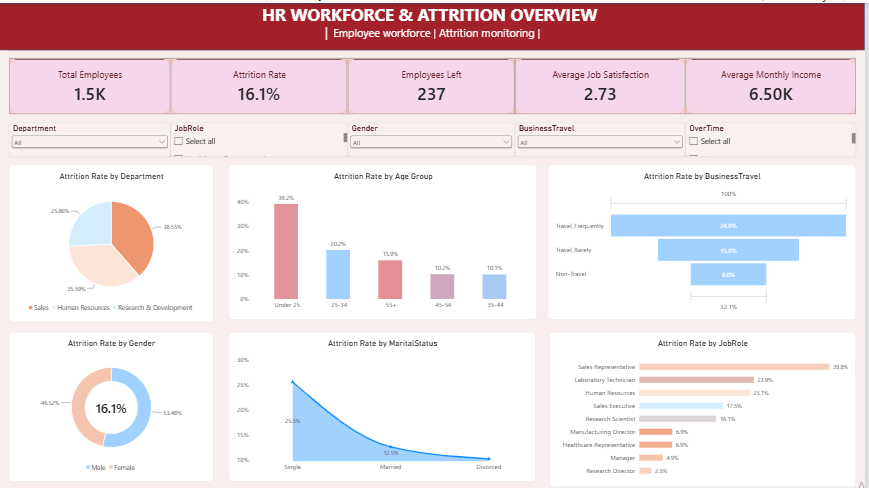

What the dashboard file says about the page in this screenshot:
{"tool":"powerbi","page":{"name":"Dashboard_1","canvas":[1920,1080],"ordinal":0},"visuals":[{"type":"shape","box":[0,0,1919.3,104.9],"z":0},{"type":"cardVisual","fields":{"Data":["Measure Table.Attrition Rate"]},"box":[380.5,104.9,392.6,141.4],"z":1000},{"type":"cardVisual","fields":{"Data":["Measure Table.Employees Left"]},"box":[773.1,104.9,370.7,141.4],"z":2000},{"type":"cardVisual","fields":{"Data":["Measure Table.Employees Retained"]},"box":[1143.8,104.9,378,141.4],"z":3000},{"type":"cardVisual","fields":{"Data":["Measure Table.Average Monthly Income"]},"box":[1521.8,104.9,378,141.4],"z":4000},{"type":"cardVisual","fields":{"Data":["Measure Table.Total Employees"]},"box":[21.9,104.9,358.5,141.4],"z":5000},{"type":"pieChart","fields":{"Category":["Employee_Data.Department"],"Y":["Measure Table.Attrition Rate"]},"box":[21.9,358.5,453.6,348.7],"z":6000},{"type":"clusteredBarChart","fields":{"Category":["Employee_Data.JobRole"],"Y":["Measure Table.Attrition Rate"]},"box":[1219.4,729.2,680.4,343.9],"z":7000},{"type":"clusteredColumnChart","fields":{"Category":["Employee_Data.Age Group"],"Y":["Measure Table.Attrition Rate"]},"box":[509.7,358.5,682.9,343.9],"z":8000},{"type":"donutChart","fields":{"Category":["Employee_Data.Gender"],"Y":["Measure Table.Attrition Rate"]},"box":[21.9,729.2,453.6,331.7],"z":9000},{"type":"funnel","fields":{"Category":["Employee_Data.BusinessTravel"],"Y":["Measure Table.Attrition Rate"]},"box":[1217,358.5,682.9,343.9],"z":10000},{"type":"stackedAreaChart","fields":{"Category":["Employee_Data.MaritalStatus"],"Y":["Measure Table.Attrition Rate"]},"box":[509.7,729.2,680.4,331.7],"z":11000},{"type":"slicer","fields":{"Values":["Employee_Data.Department"]},"box":[21.9,265.8,358.5,75.6],"z":12000},{"type":"slicer","fields":{"Values":["Employee_Data.JobRole"]},"box":[380.5,265.8,392.6,75.6],"z":13000},{"type":"slicer","fields":{"Values":["Employee_Data.Gender"]},"box":[773.1,265.8,370.7,75.6],"z":14000},{"type":"slicer","title":"Business Travel","fields":{"Values":["Employee_Data.BusinessTravel"]},"box":[1143.8,265.8,378,75.6],"z":15000},{"type":"slicer","fields":{"Values":["Employee_Data.OverTime"]},"box":[1521.8,265.8,378,75.6],"z":16000},{"type":"textbox","box":[0,0,1919.3,85.4],"z":17000}]}

Visuals, with their boxes in screenshot pixels (x1, y1, x2, y2), scaled from the page's 1920x1080 canvas onto the 869x488 screenshot:
shape: [x1=0, y1=0, x2=868, y2=47]
cardVisual - Measure Table.Attrition Rate: [x1=172, y1=47, x2=350, y2=111]
cardVisual - Measure Table.Employees Left: [x1=350, y1=47, x2=518, y2=111]
cardVisual - Measure Table.Employees Retained: [x1=518, y1=47, x2=689, y2=111]
cardVisual - Measure Table.Average Monthly Income: [x1=689, y1=47, x2=860, y2=111]
cardVisual - Measure Table.Total Employees: [x1=10, y1=47, x2=172, y2=111]
pieChart - Employee_Data.Department x Measure Table.Attrition Rate: [x1=10, y1=162, x2=215, y2=320]
clusteredBarChart - Employee_Data.JobRole x Measure Table.Attrition Rate: [x1=552, y1=329, x2=860, y2=485]
clusteredColumnChart - Employee_Data.Age Group x Measure Table.Attrition Rate: [x1=231, y1=162, x2=540, y2=317]
donutChart - Employee_Data.Gender x Measure Table.Attrition Rate: [x1=10, y1=329, x2=215, y2=479]
funnel - Employee_Data.BusinessTravel x Measure Table.Attrition Rate: [x1=551, y1=162, x2=860, y2=317]
stackedAreaChart - Employee_Data.MaritalStatus x Measure Table.Attrition Rate: [x1=231, y1=329, x2=539, y2=479]
slicer - Employee_Data.Department: [x1=10, y1=120, x2=172, y2=154]
slicer - Employee_Data.JobRole: [x1=172, y1=120, x2=350, y2=154]
slicer - Employee_Data.Gender: [x1=350, y1=120, x2=518, y2=154]
"Business Travel" slicer: [x1=518, y1=120, x2=689, y2=154]
slicer - Employee_Data.OverTime: [x1=689, y1=120, x2=860, y2=154]
textbox: [x1=0, y1=0, x2=868, y2=39]
